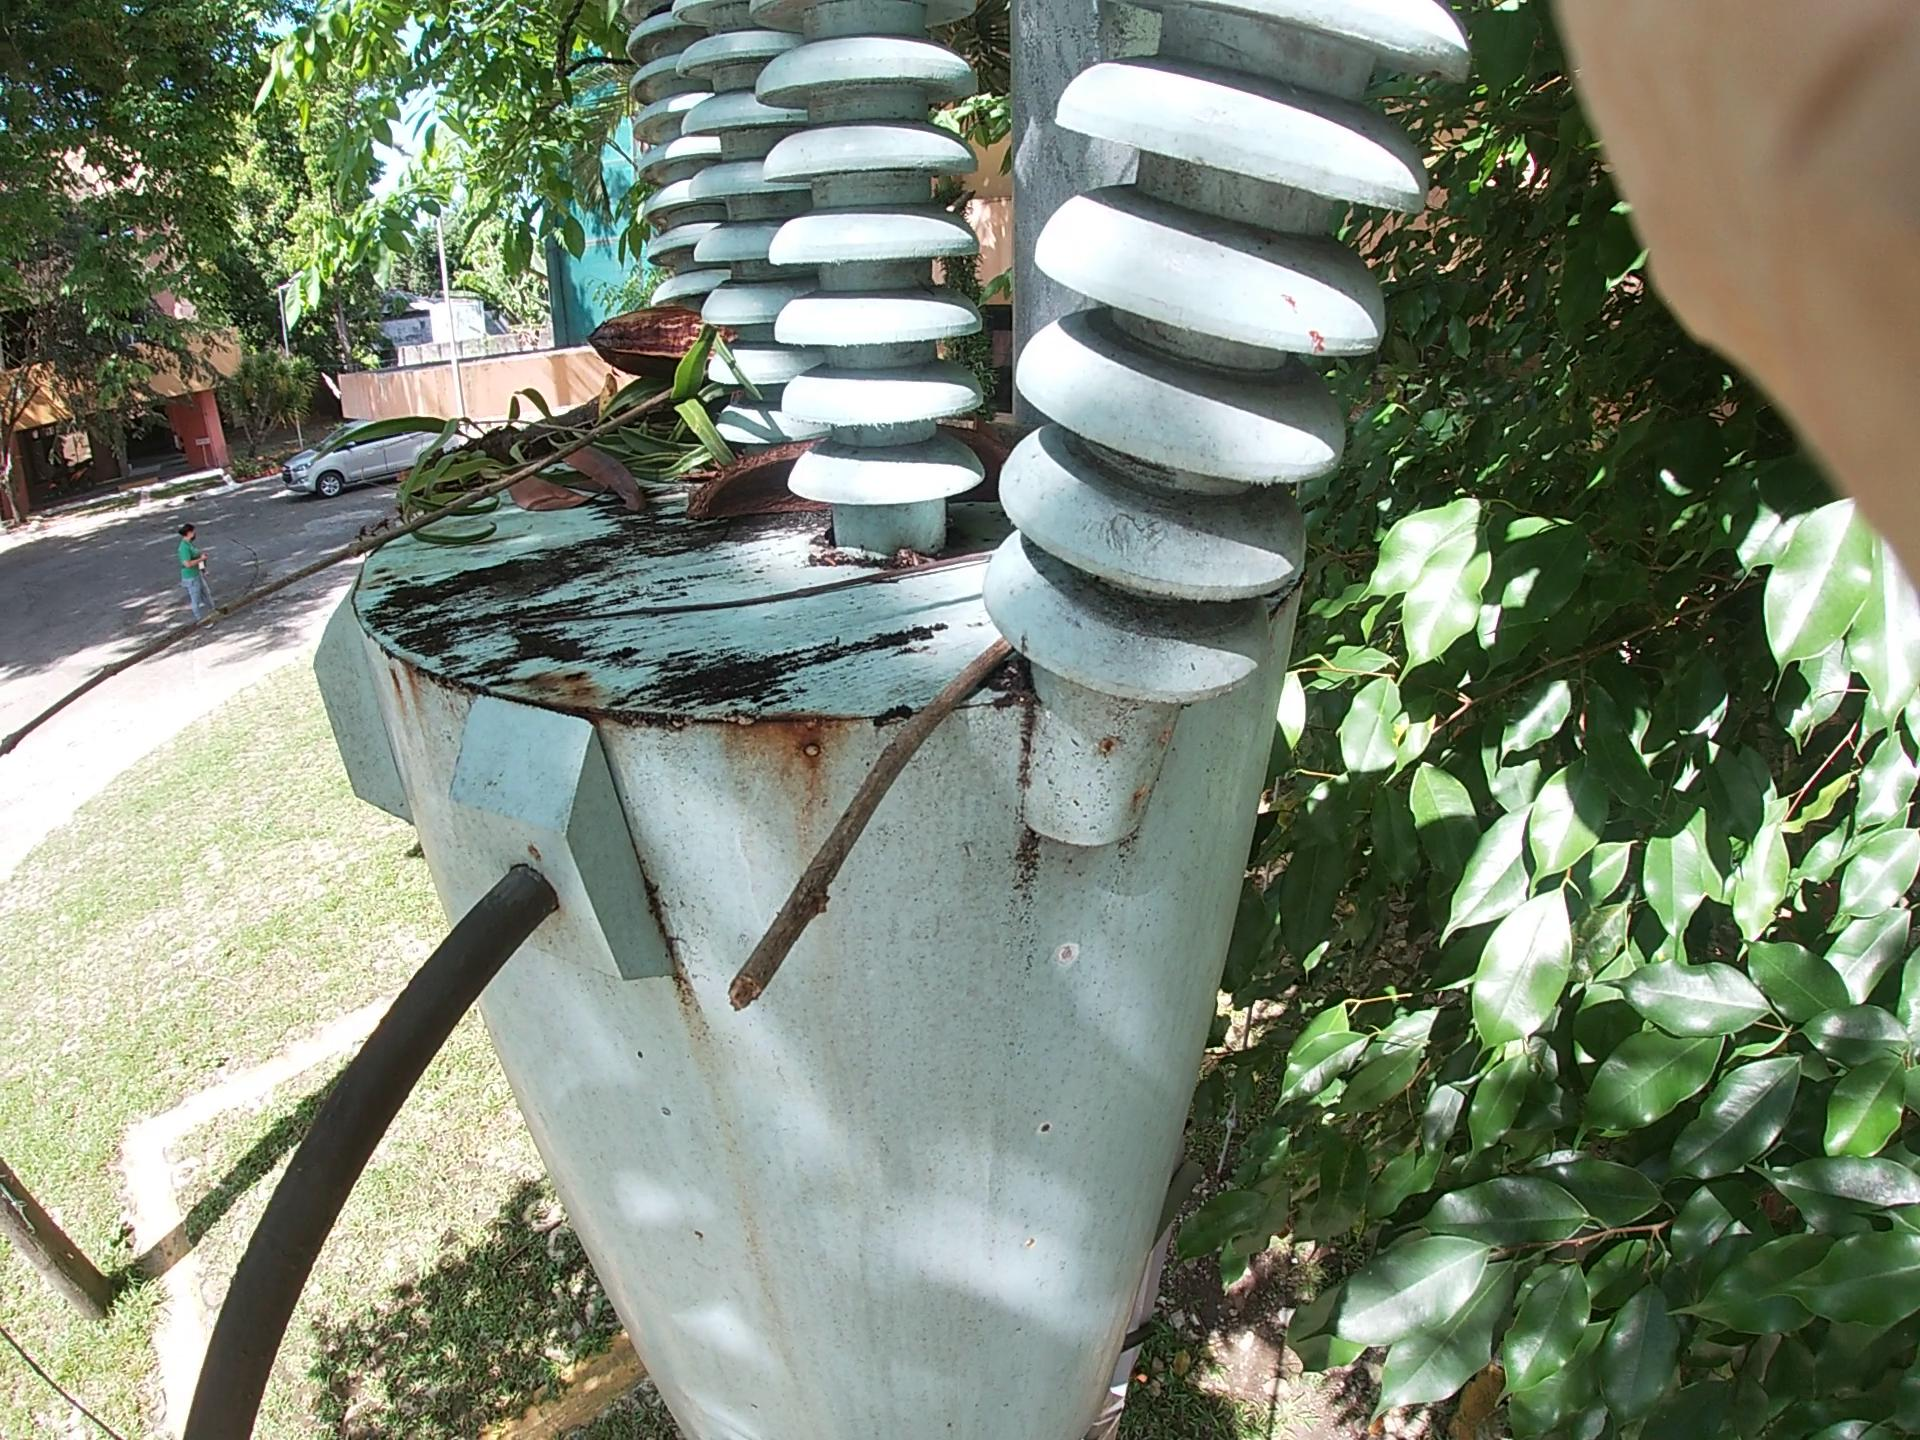branch with leaves: (163, 303, 877, 682)
leaf: (479, 365, 711, 569)
mahogany fruit: (671, 390, 841, 555), (565, 293, 760, 375)
tree branch: (726, 602, 1252, 1042), (228, 383, 720, 585)
